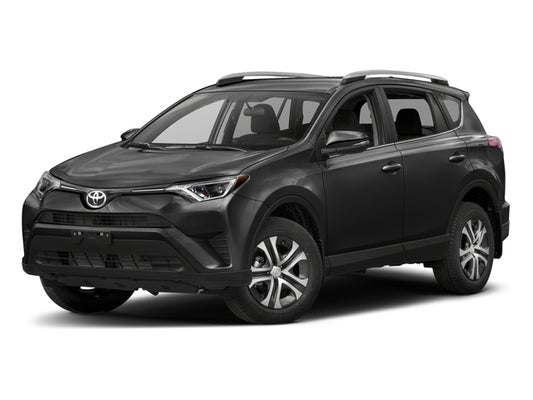Toyota RAV-4: (21, 75, 510, 326)
